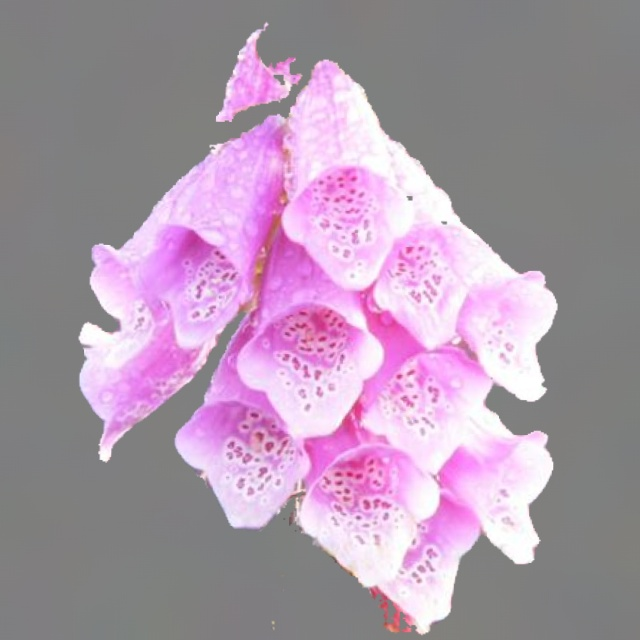foxglove: (78, 23, 557, 634)
rose: (166, 209, 221, 256)
